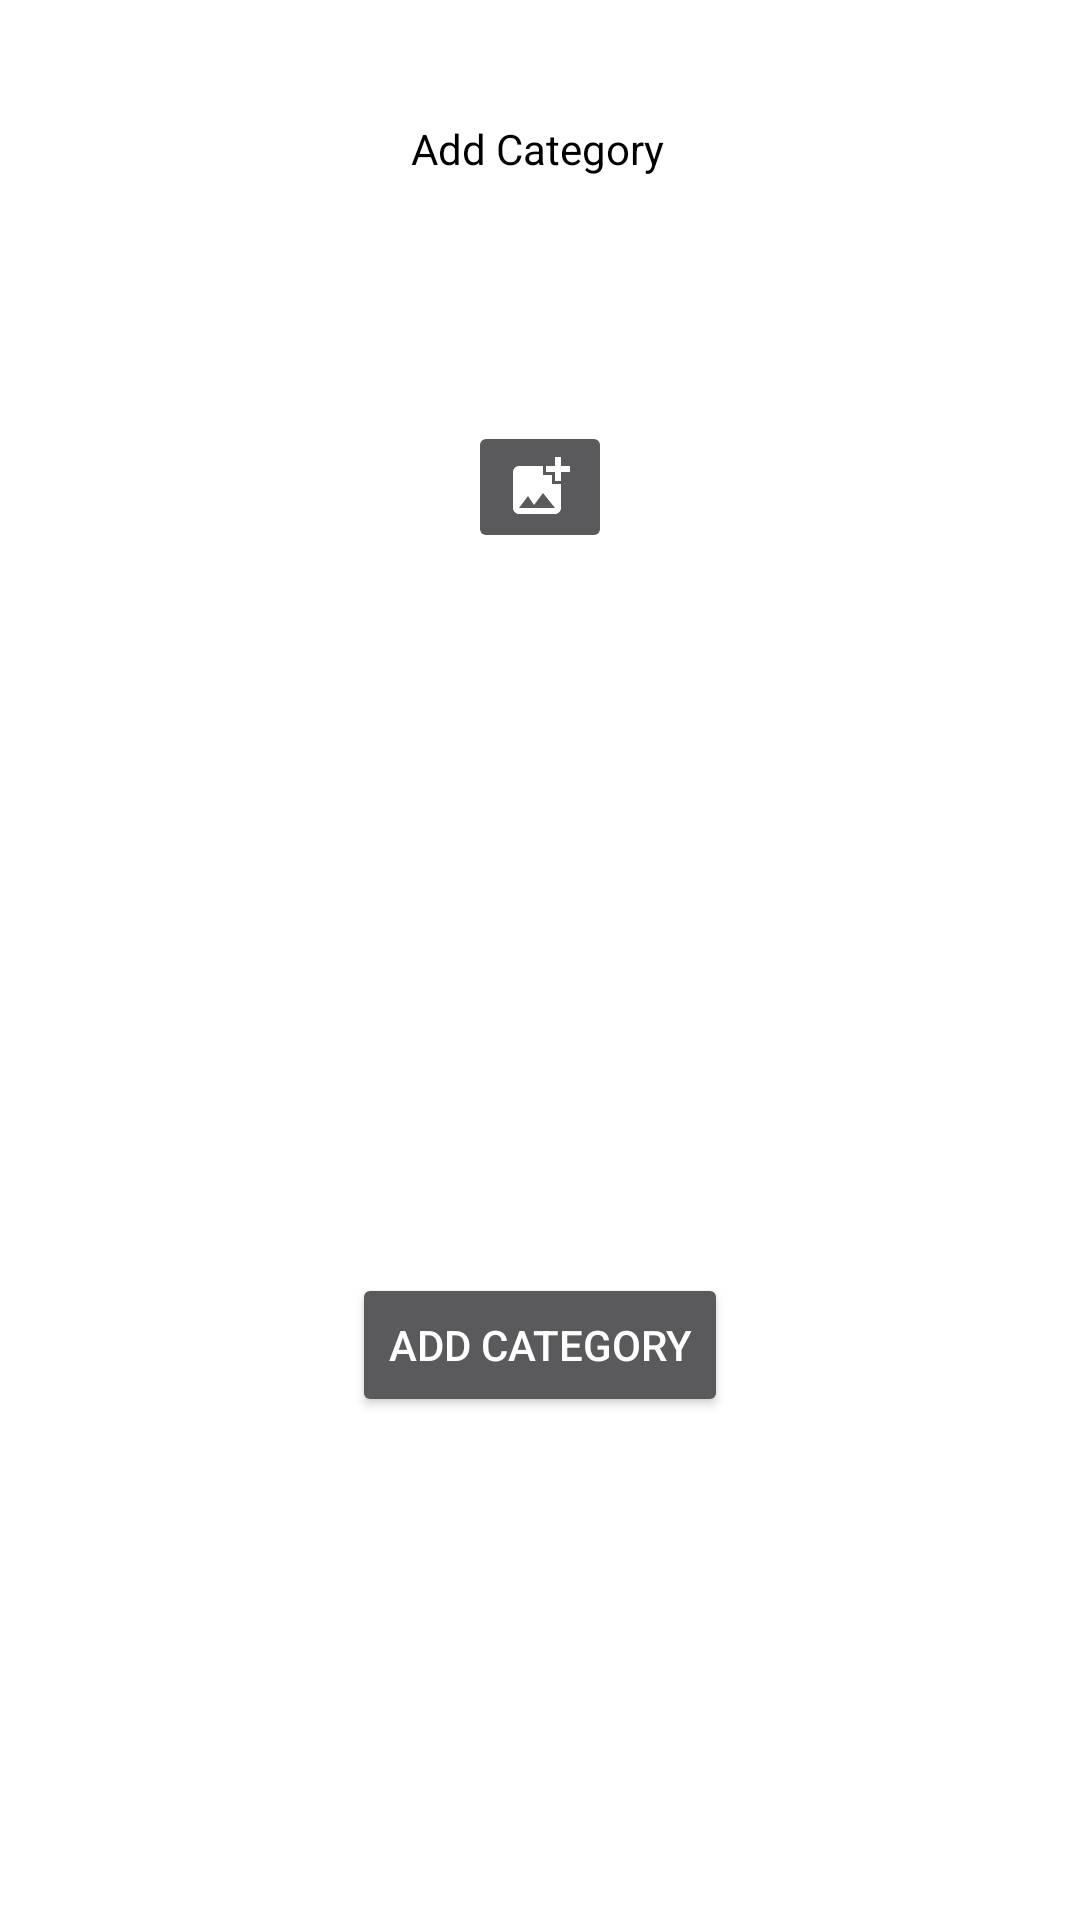

Locate icon controls on the screen. Image size 1080*1920, boxes as (x1=x1, y1=y1, x2=x2, y2=y2).
add photo alternate: (x1=480, y1=439, x2=600, y2=535)
